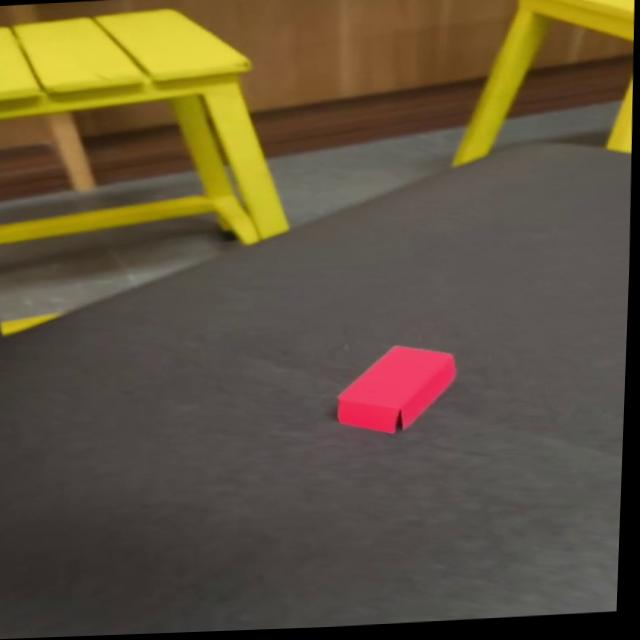red block: (332, 340, 458, 437)
